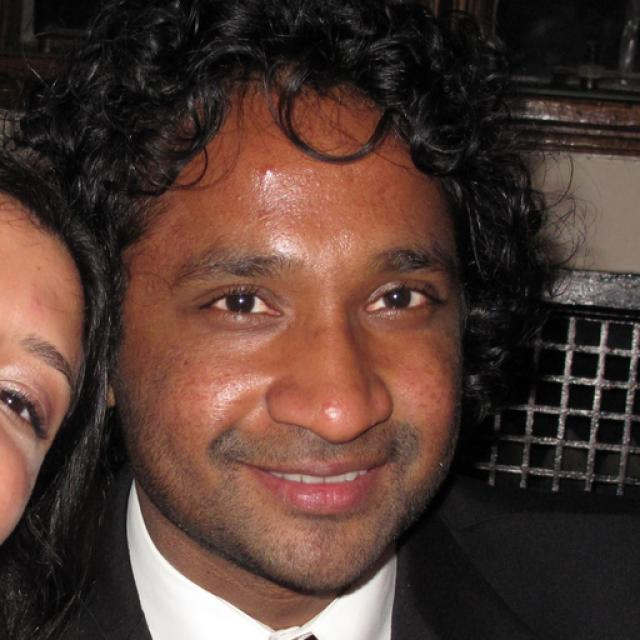Acne: (241, 154, 283, 188), (303, 167, 332, 204), (305, 209, 330, 237)
